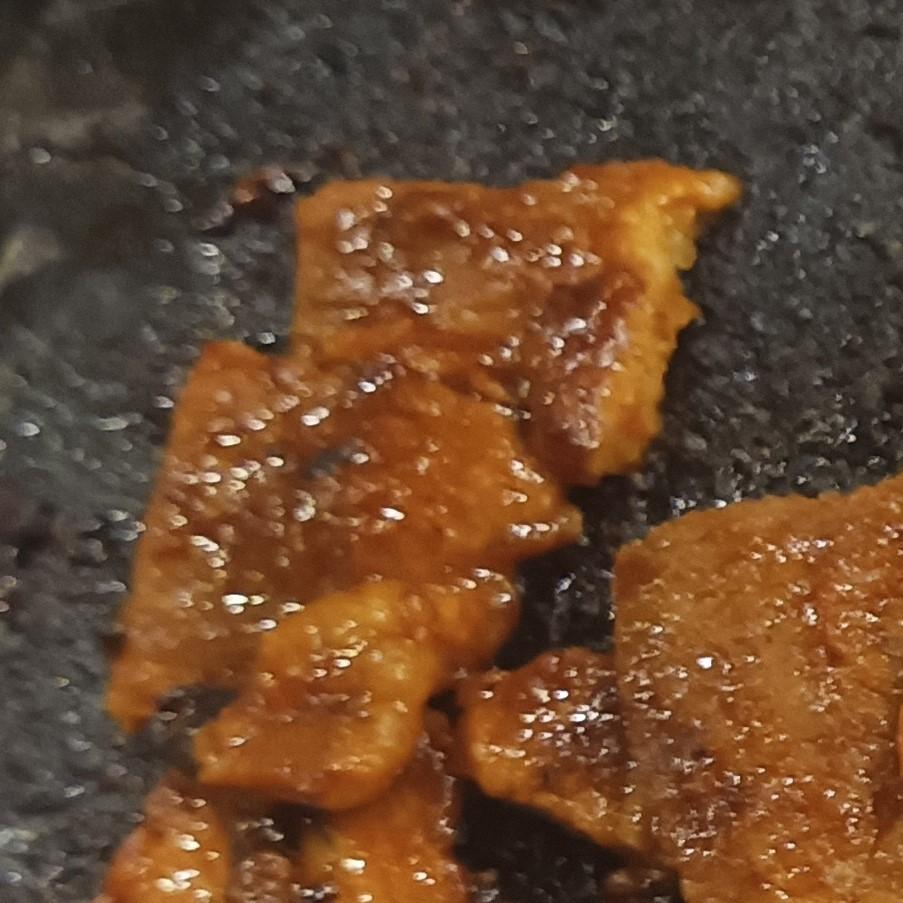Well-Cooked: (102, 160, 747, 902), (452, 470, 902, 902)
